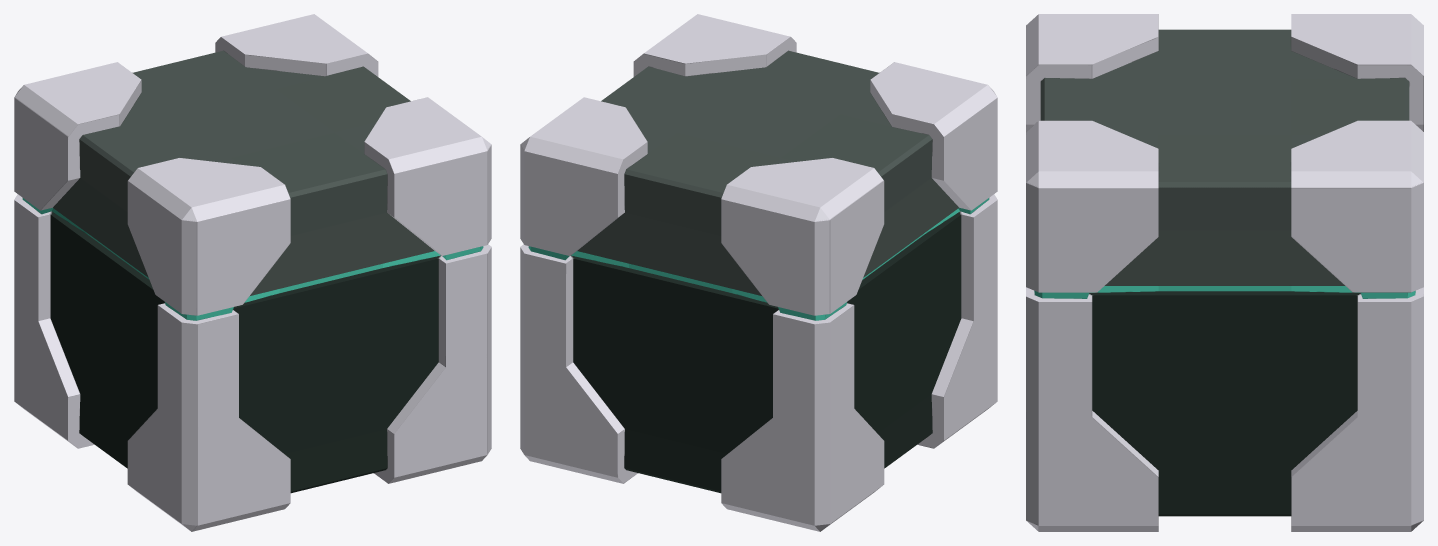
File: CrateDungeon2.fbx
3 renders of one model, left to right at view 1: azimuth 30°, elevation 25°; view 2: azimuth 150°, elevation 25°; view 3: azimuth 270°, elevation 25°, orthographic. The views are drawn at different scales.
Visible parts, largest first — view 1: CrateDungeon2; view 2: CrateDungeon2; view 3: CrateDungeon2.
Boxes of the visible parts, x1,y1,x2,y2 form: CrateDungeon2: (14,14,491,531); CrateDungeon2: (520,14,997,531); CrateDungeon2: (1026,14,1423,531).
Size of the model in its own units: 59.99 by 59.99 by 59.99.
